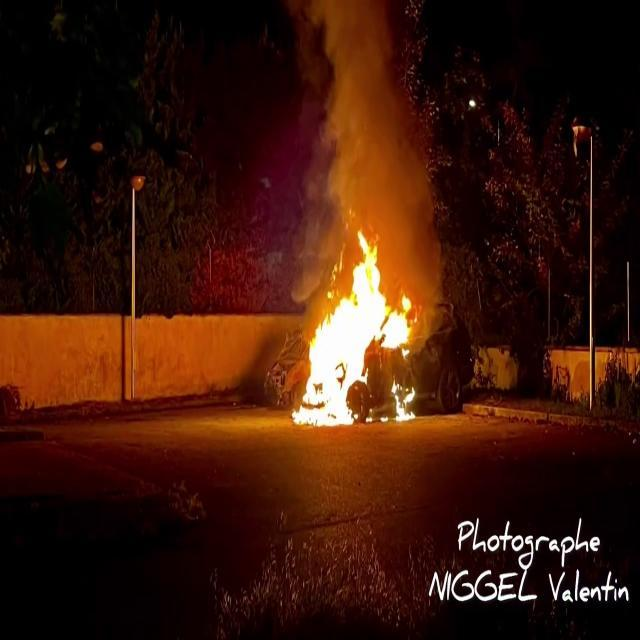Fire: (290, 216, 422, 429)
Smoke: (320, 0, 442, 273)
